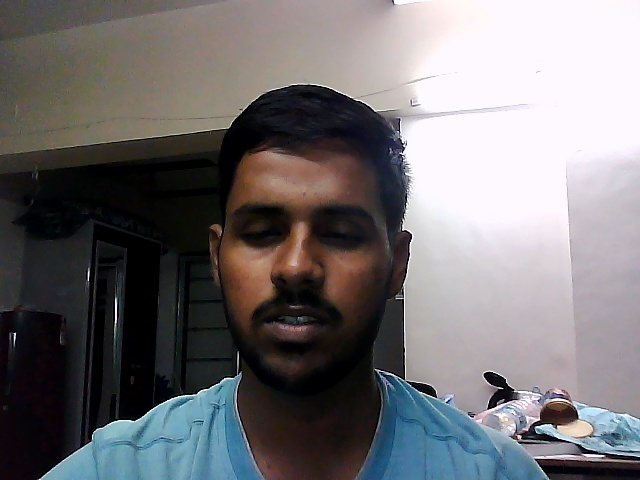drowsy: (187, 74, 436, 396)
